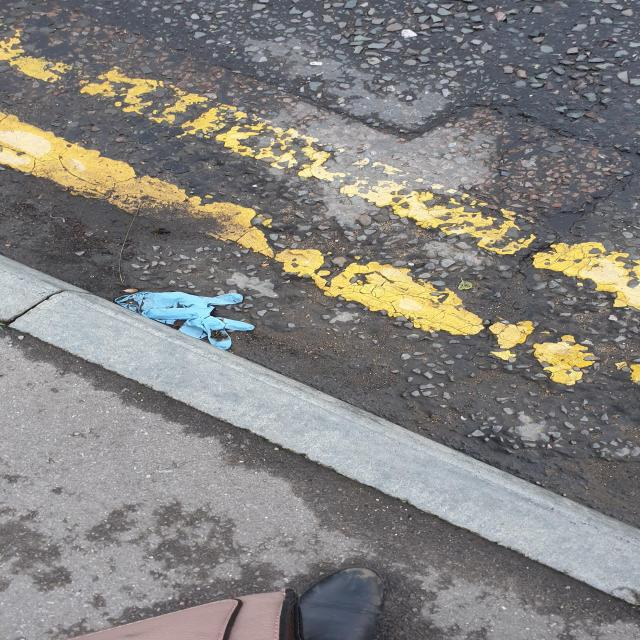Plastic glooves: (115, 291, 255, 350)
